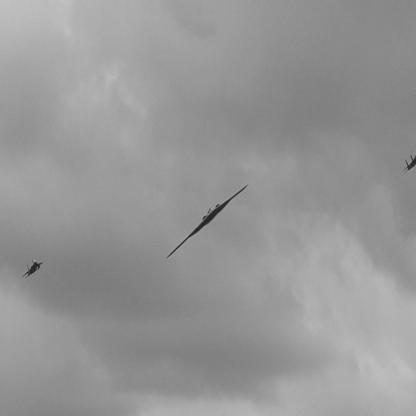B2: (166, 184, 250, 260)
F15: (23, 260, 45, 279), (403, 154, 416, 176)
